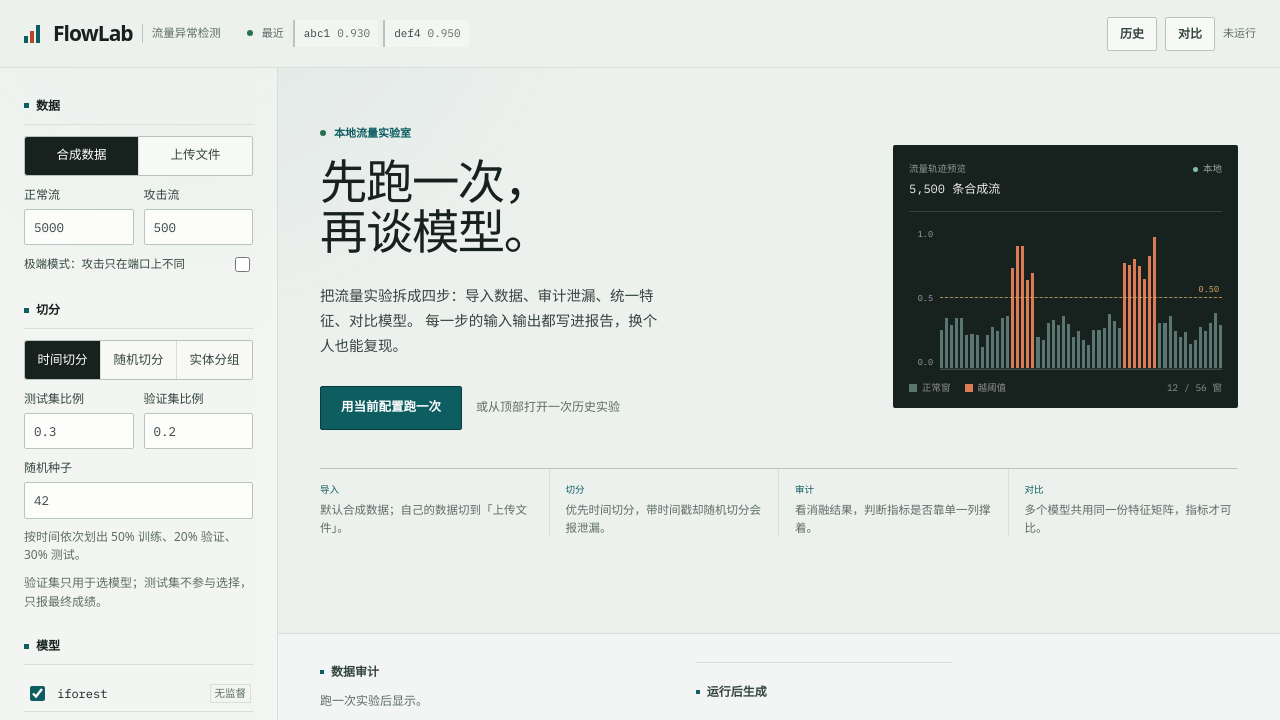
it: App history restore › opens the cross-experiment comparison from the top bar
This screenshot has width=1280, height=720.
Click the button "对比". click: (1190,34)
box: [1165,16,1215,50]
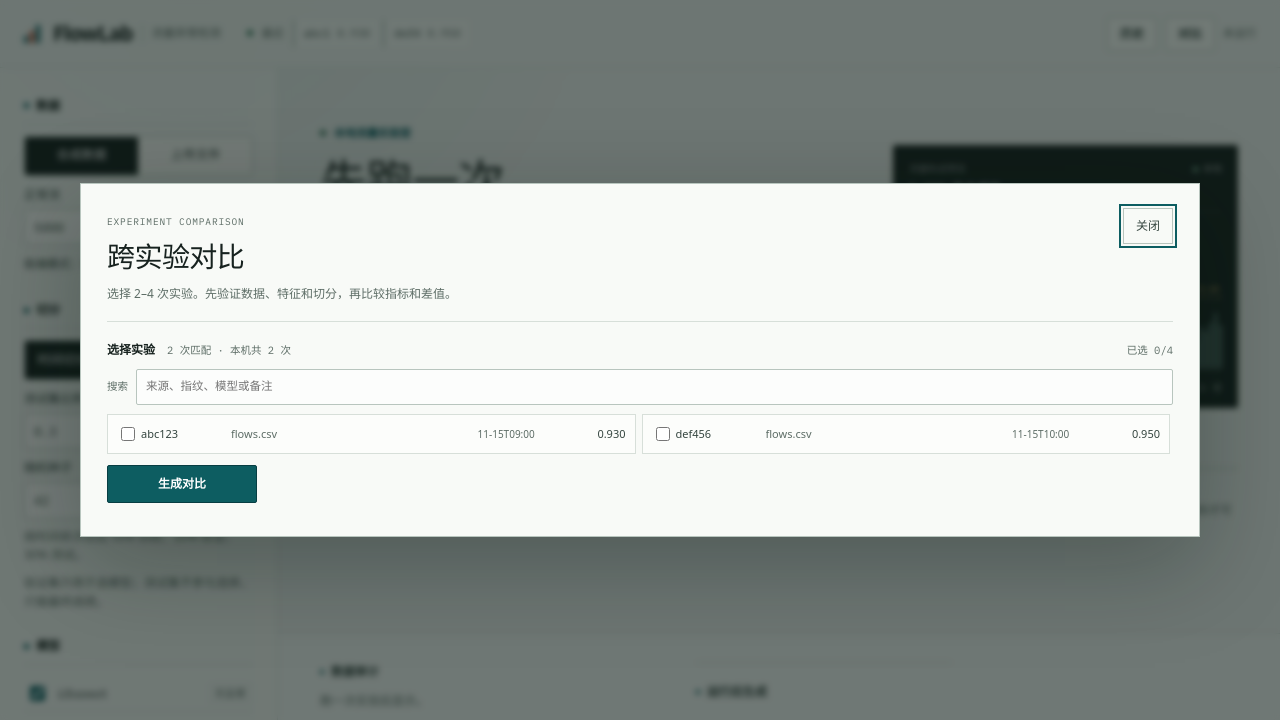
Now the dialog "跨实验对比" is shown, box [80,183,1200,537]
Click the checkbox named "选择 abc123". click: (128,434)
box: [121,427,135,441]
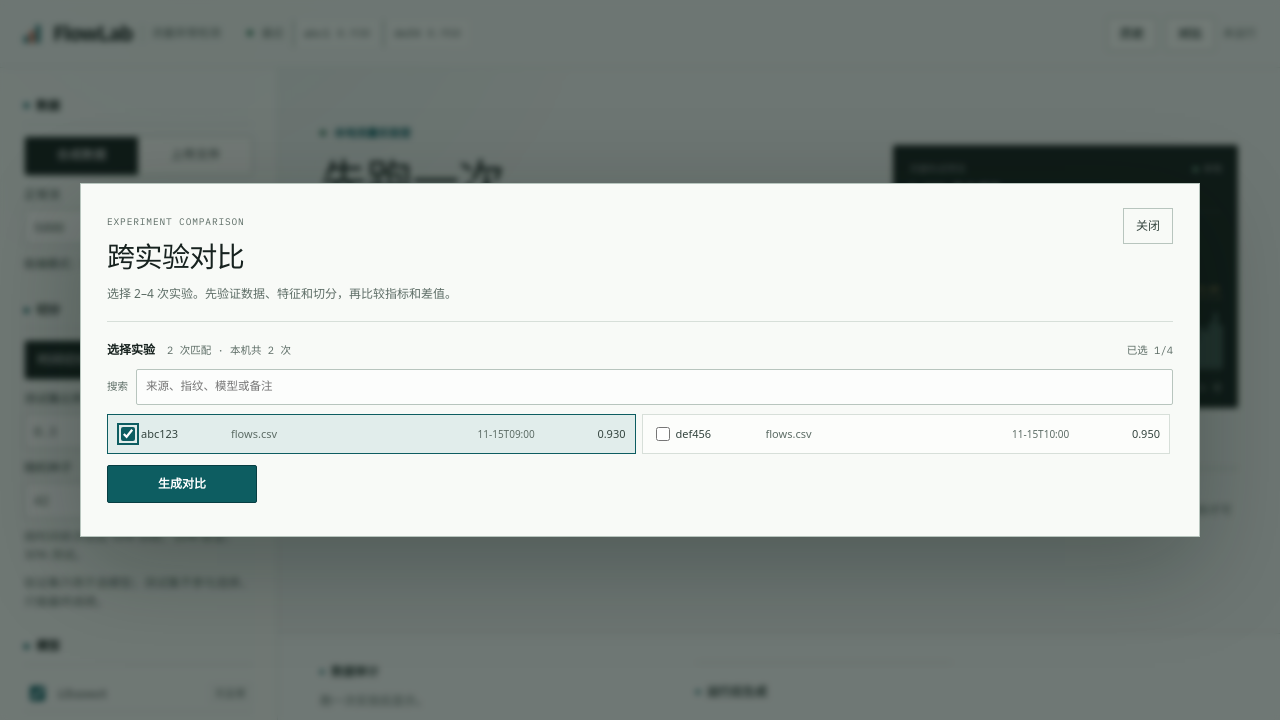
Click the checkbox named "选择 def456". click: (662,434)
box: [656,427,670,441]
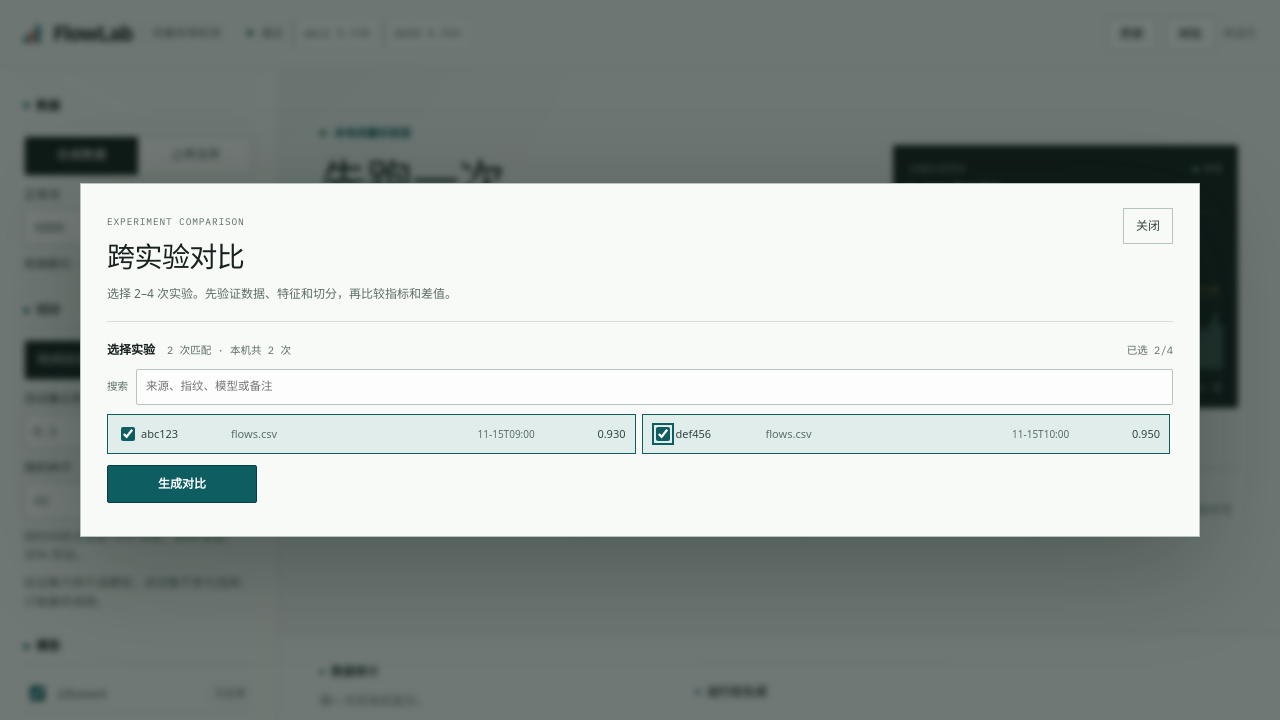
Click the button "生成对比". click: (182,484)
box: [107,465,257,503]
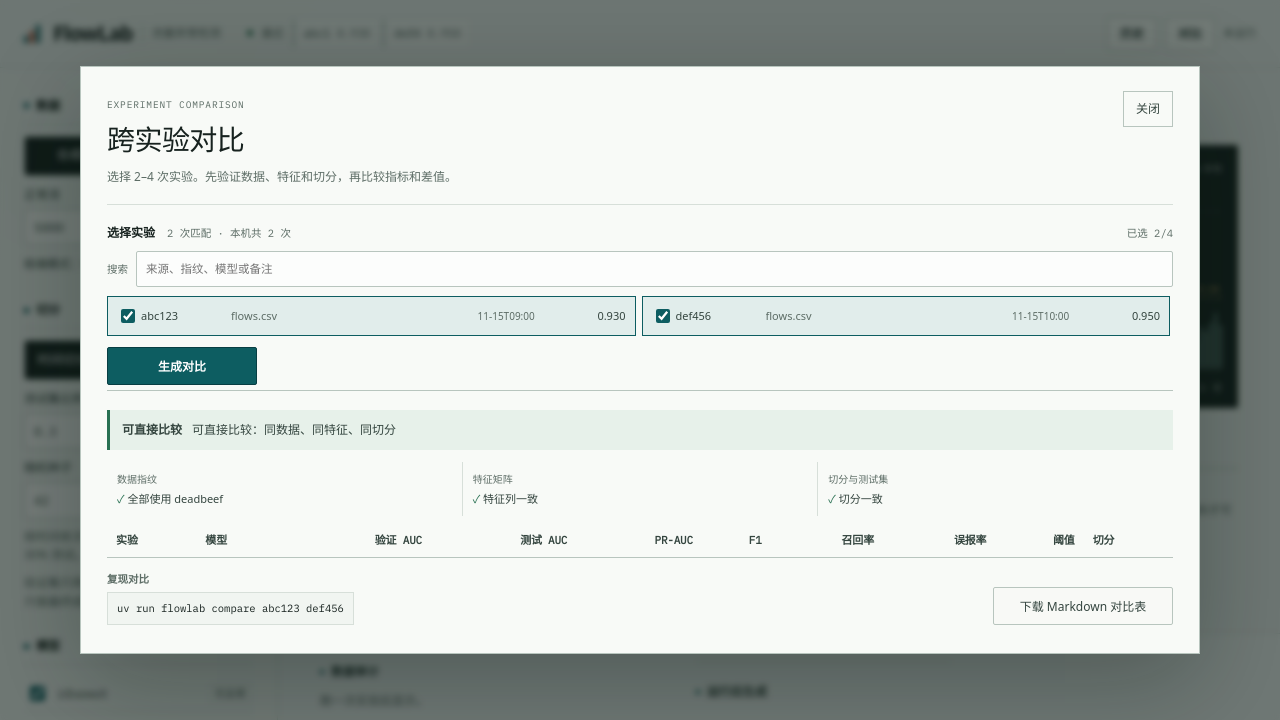
Now the text "可直接比较" is shown, box [122,420,182,440]
